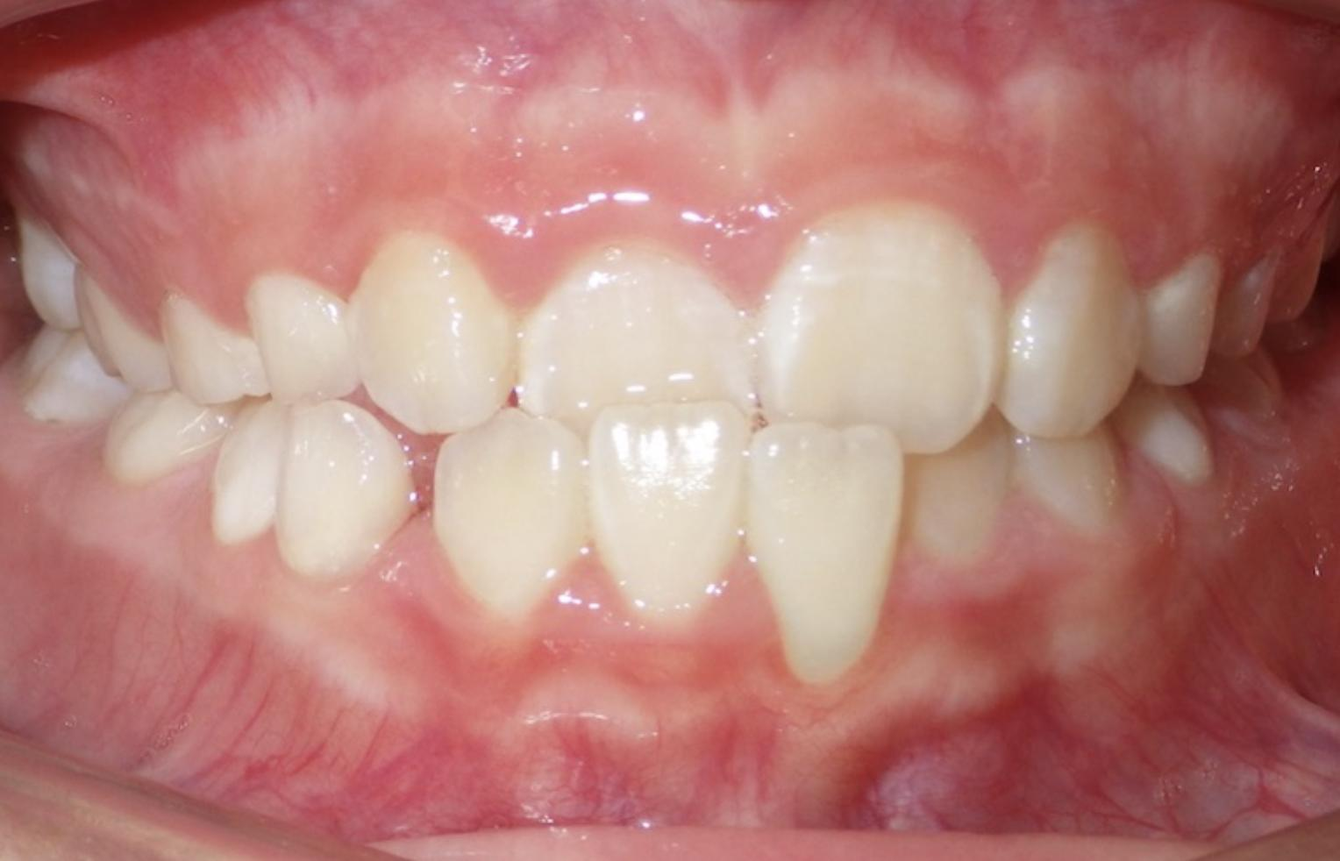Spaced: (392, 439, 437, 571)
